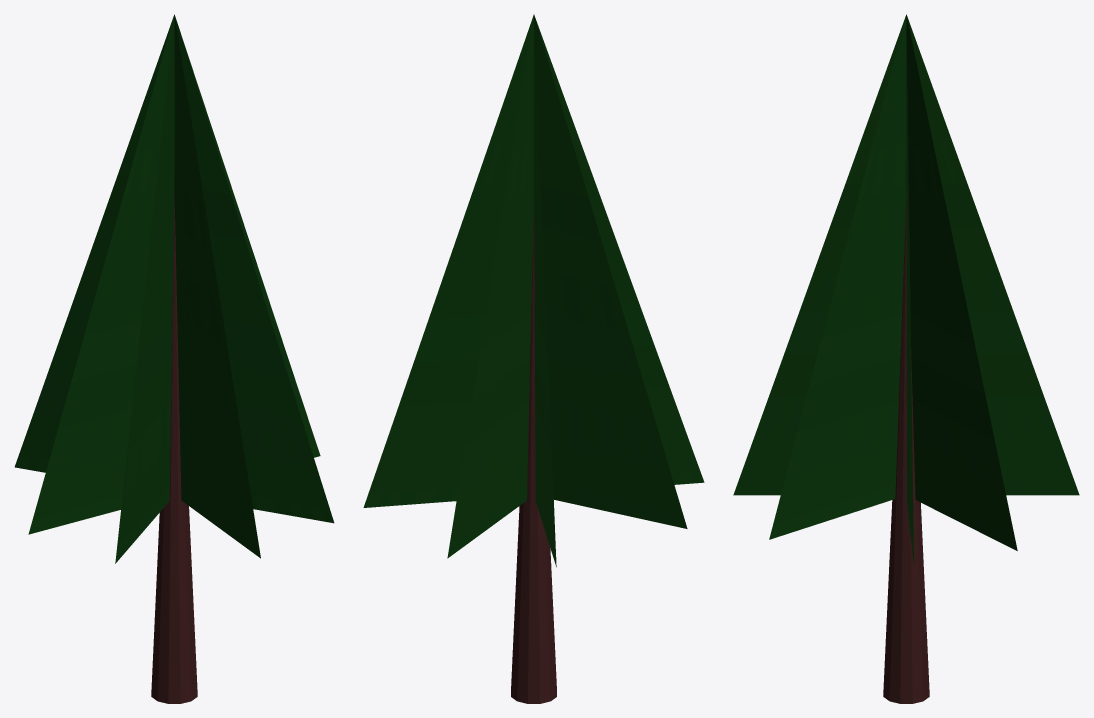
The model's file is tree_sample.gltf.
3 renders of one model, left to right at view 1: azimuth 30°, elevation 25°; view 2: azimuth 150°, elevation 25°; view 3: azimuth 270°, elevation 25°, orthographic.
Visible parts, largest first — view 1: log; view 2: log; view 3: log.
Part boxes in pixels (x1,y1,x2,y2): log: [14, 14, 334, 703]; log: [363, 14, 704, 703]; log: [733, 14, 1079, 703].
Size of the model in its own units: 0.2342 by 0.5078 by 0.2344.
Materials: 2 (2 with a texture image).
